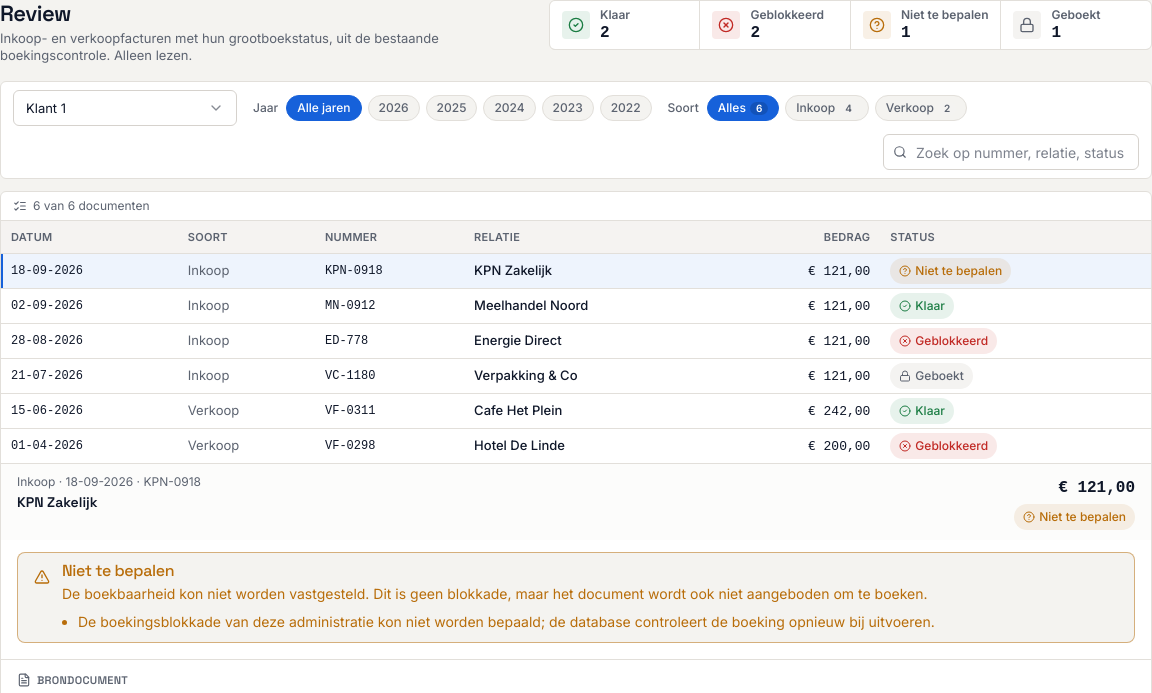
Test: Review — het paneel volgt de gefilterde wachtrij › 11. zoeken: een weggefilterde selectie wijkt; geen treffers geeft een leeg paneel
Click the button "Meelhandel Noord" at (593, 306), box top-left (474, 296), bottom-right (712, 316)
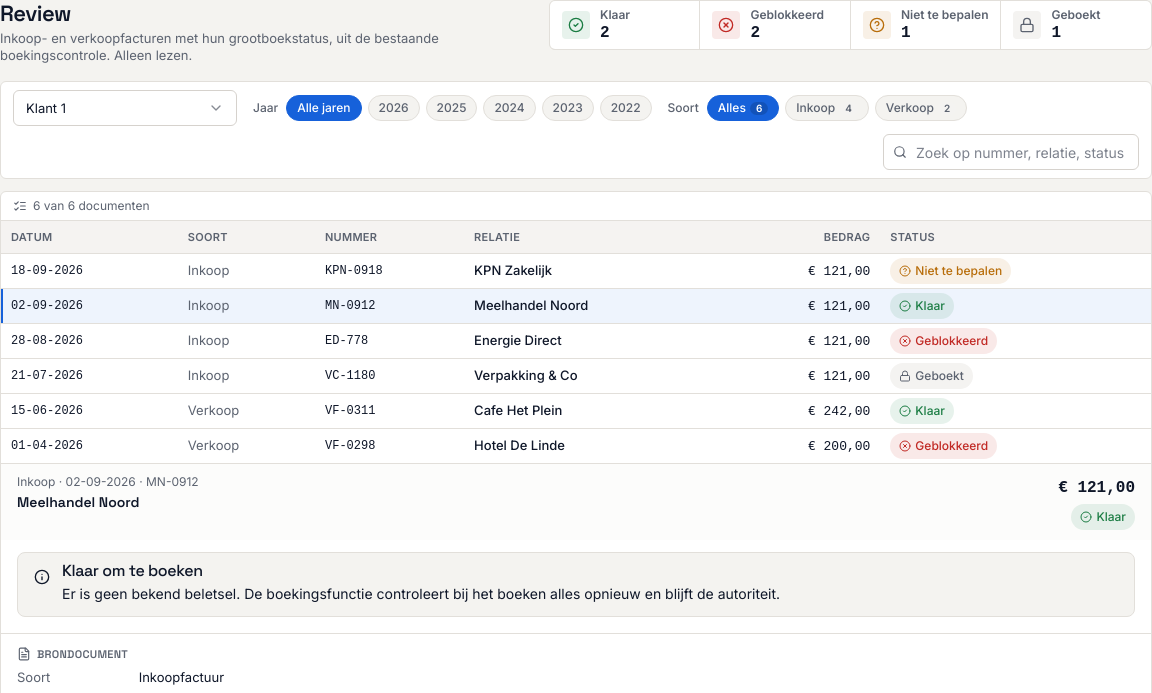
Type "Energie" into the field named "Zoeken in de wachtrij" at (1011, 152), box top-left (883, 134), bottom-right (1139, 170)
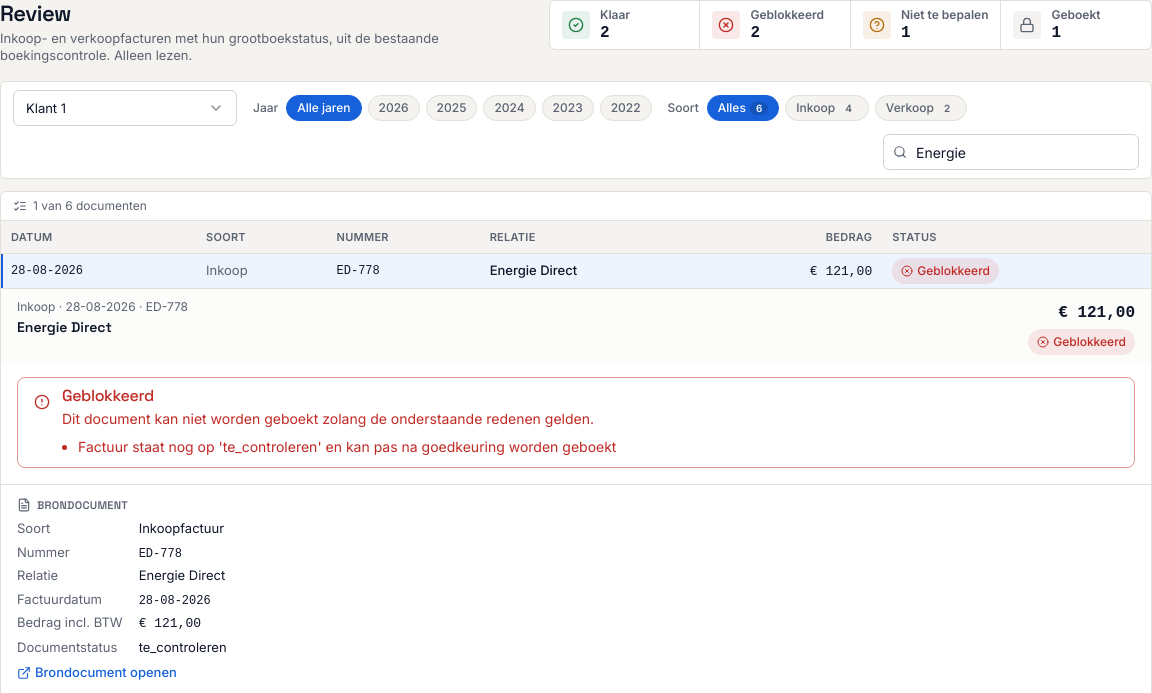
Result: the element with test id "review-detail" shows "Energie Direct" at top-left (17, 318), bottom-right (112, 336)
Replace the text in the field named "Zoeken in de wachtrij" with "bestaat-niet-xyz" at (1011, 152), box top-left (883, 134), bottom-right (1139, 170)
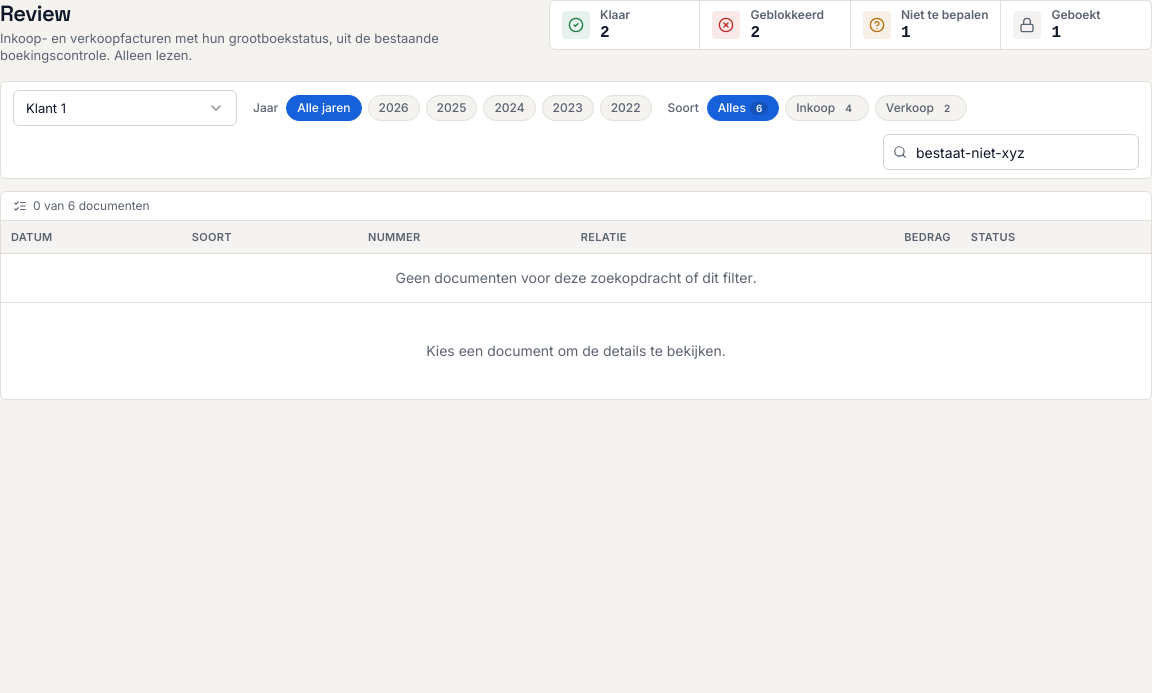
Result: the cell with test id "review-no-match" is shown at top-left (1, 254), bottom-right (1151, 302)
Result: the element with test id "review-detail" reads "Kies een document om de details te bekijken." at top-left (426, 342), bottom-right (726, 359)
Result: the element with test id "review-state-notice" is gone
